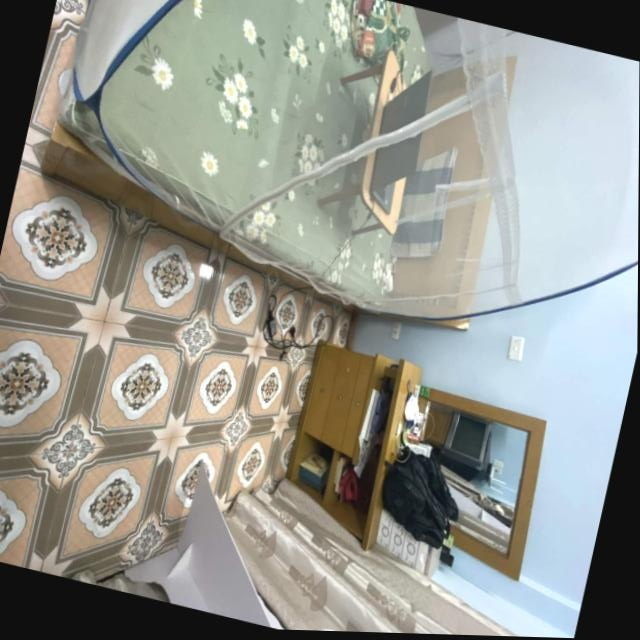outlet: (390, 321, 403, 340)
